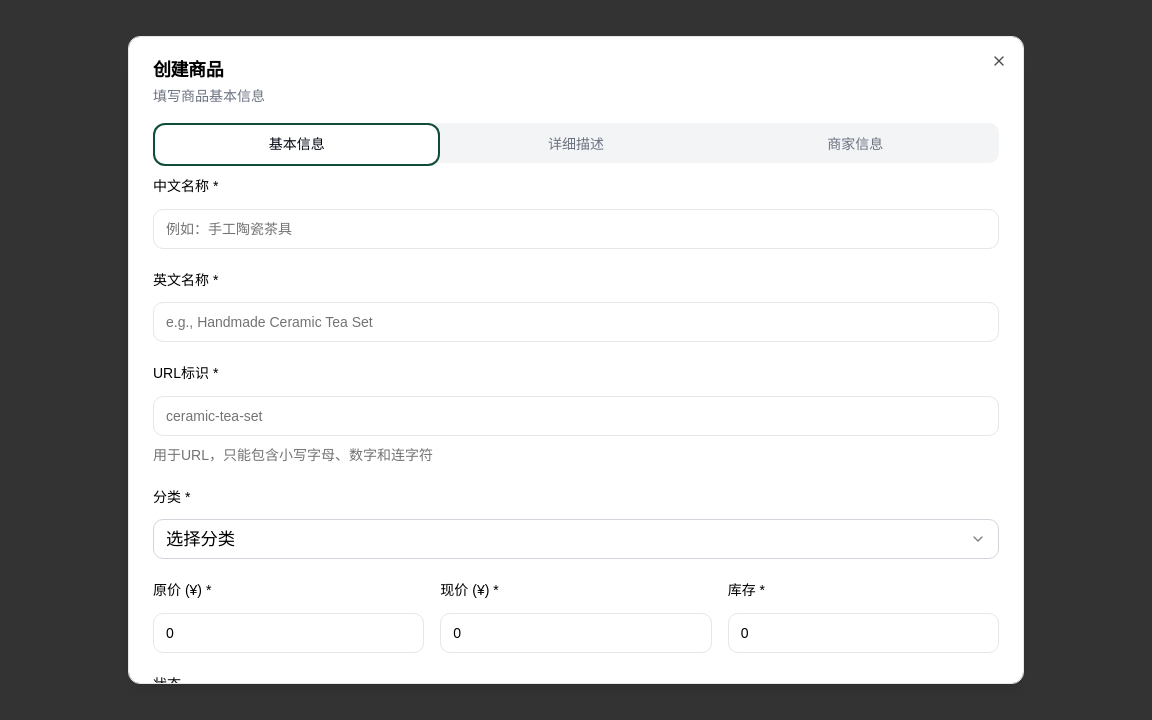
Test: ProductEditor - Form Validation Tests (Requirements 9.2) › Price Validation › should show error when current price is negative
Replace the text in the number field labelled "现价 (¥) *" with "-50": (576, 633) x1=440 y1=613 x2=712 y2=653
(page scrolled)
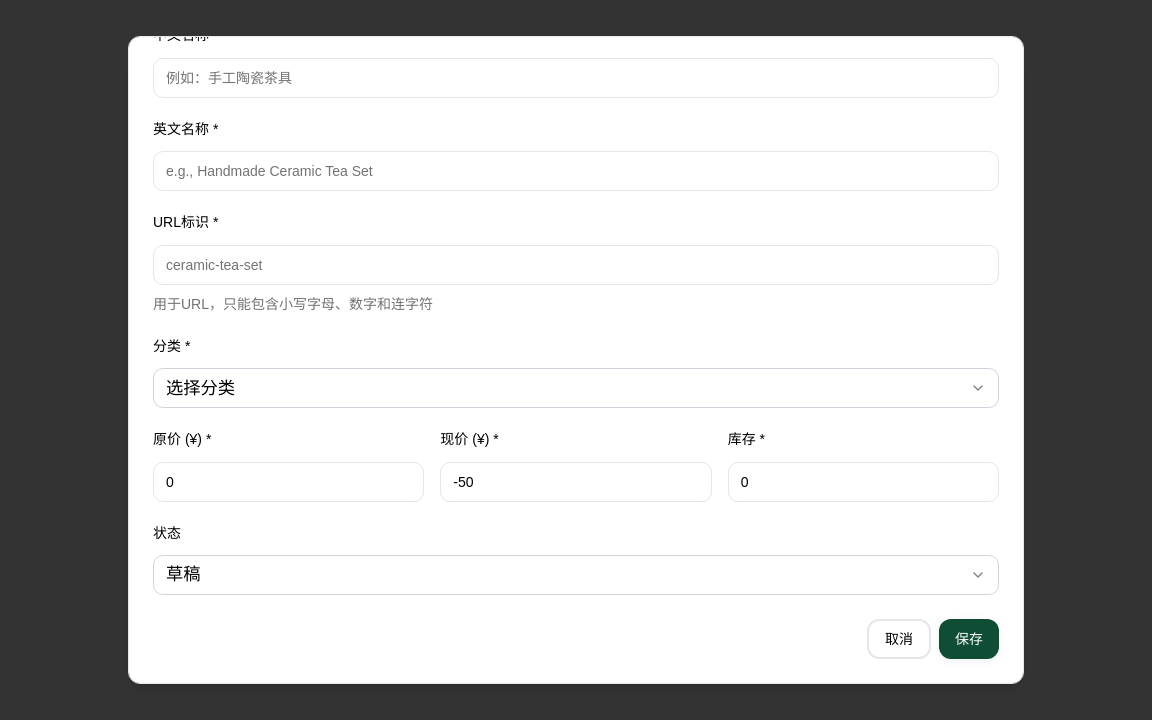
Click the button "保存": (969, 639) x1=939 y1=619 x2=999 y2=659
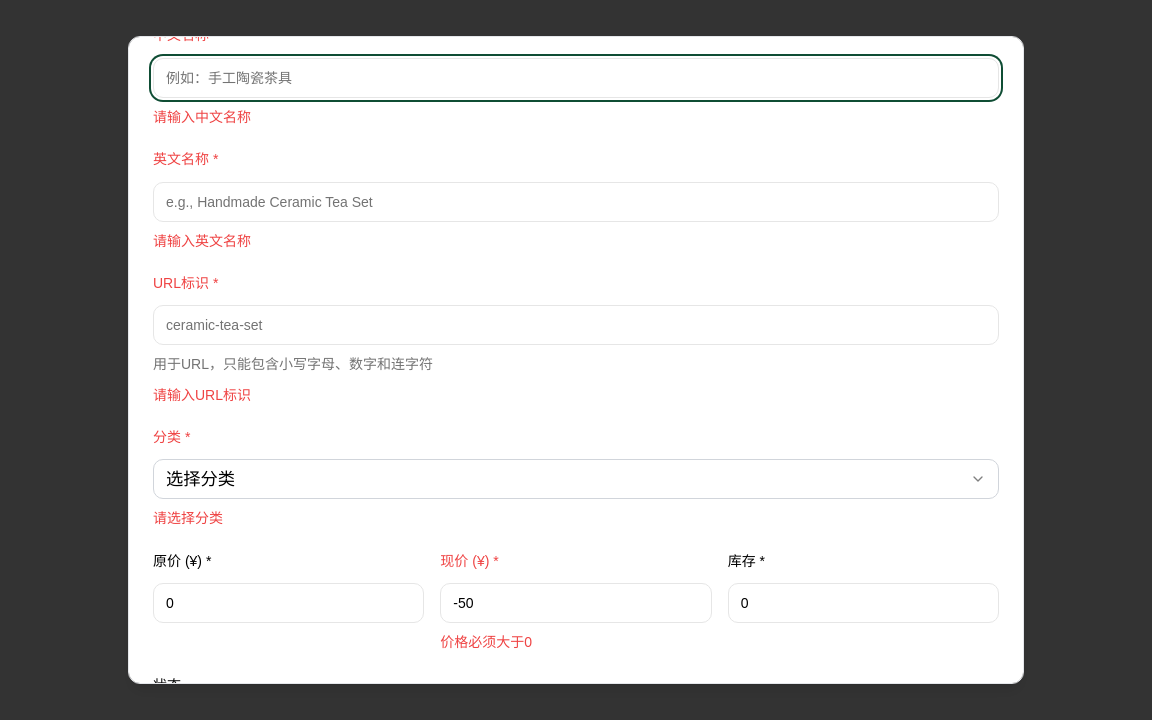
Expected: the text "价格必须大于0" is shown, x1=440 y1=634 x2=532 y2=650
